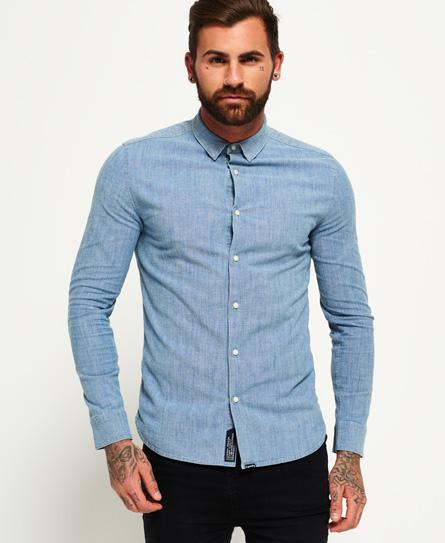teeshirt: (67, 101, 386, 466)
